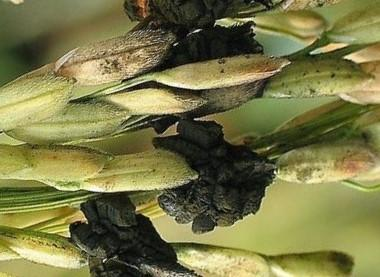False Smut: (147, 116, 268, 239), (61, 188, 198, 277), (155, 22, 270, 81), (115, 0, 272, 33)
